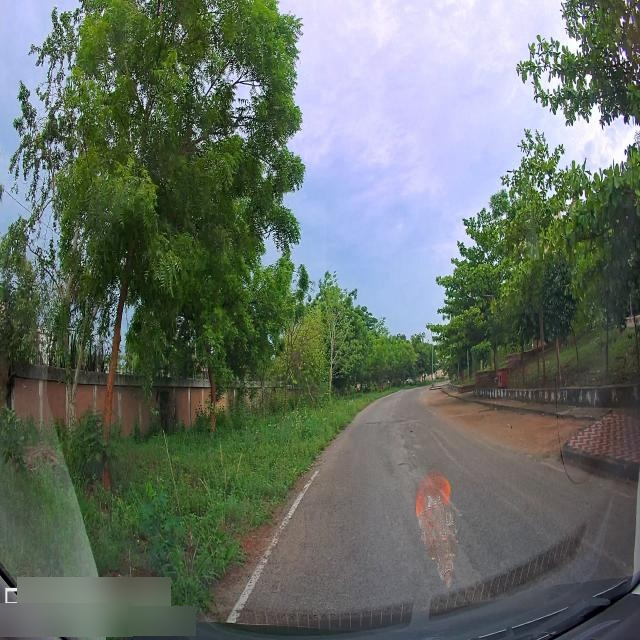pothole: (411, 444, 423, 449)
